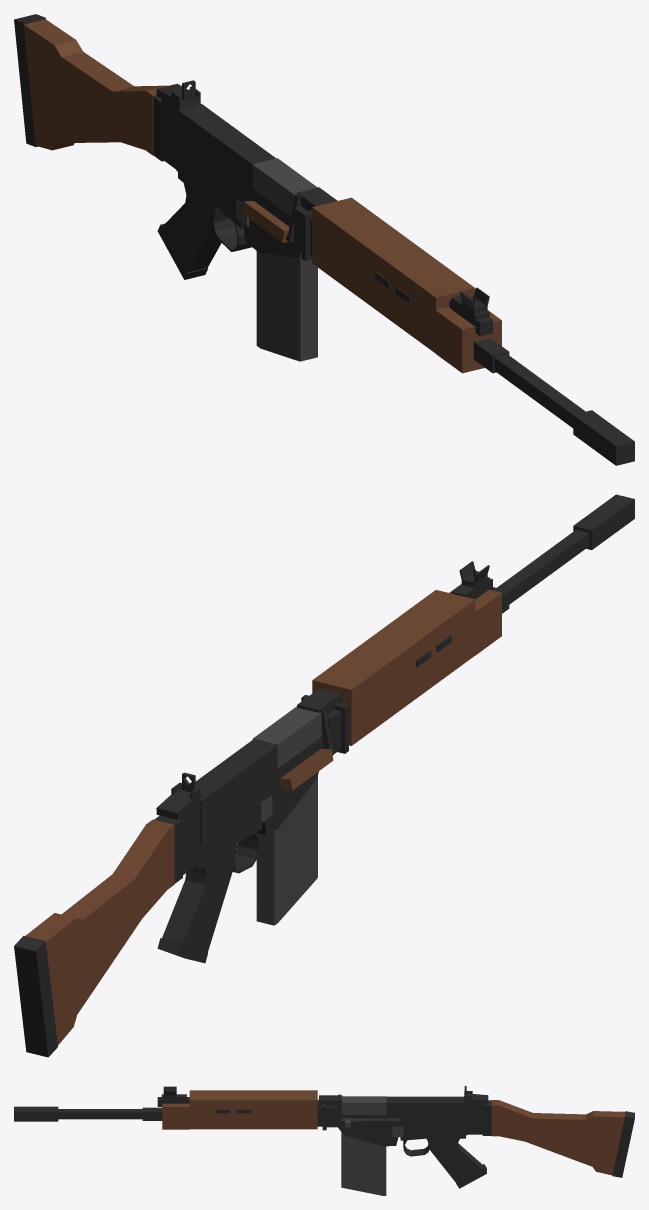
The model's file is fn_fal_cube.glb.
3 renders of one model, top to bottom at view 1: azimuth 30°, elevation 25°; view 2: azimuth 150°, elevation 25°; view 3: azimuth 270°, elevation 25°, orthographic. The views are drawn at different scales.
Visible parts, largest first — view 1: Object_3, Object_2, Object_4, Object_5; view 2: Object_2, Object_3, Object_4, Object_5; view 3: Object_3, Object_2, Object_4, Object_5.
Part boxes in pixels (x1,y1,x2,y2): Object_3: [24, 19, 501, 373]; Object_2: [14, 14, 634, 465]; Object_4: [256, 252, 317, 361]; Object_5: [236, 158, 317, 226]; Object_2: [14, 494, 634, 1057]; Object_3: [25, 584, 501, 1045]; Object_4: [256, 776, 317, 925]; Object_5: [252, 706, 321, 823]; Object_3: [162, 1090, 624, 1175]; Object_2: [14, 1086, 634, 1188]; Object_4: [341, 1132, 386, 1195]; Object_5: [341, 1096, 403, 1136].
Size of the model in its own units: 0.1476 by 0.4946 by 2.63.
